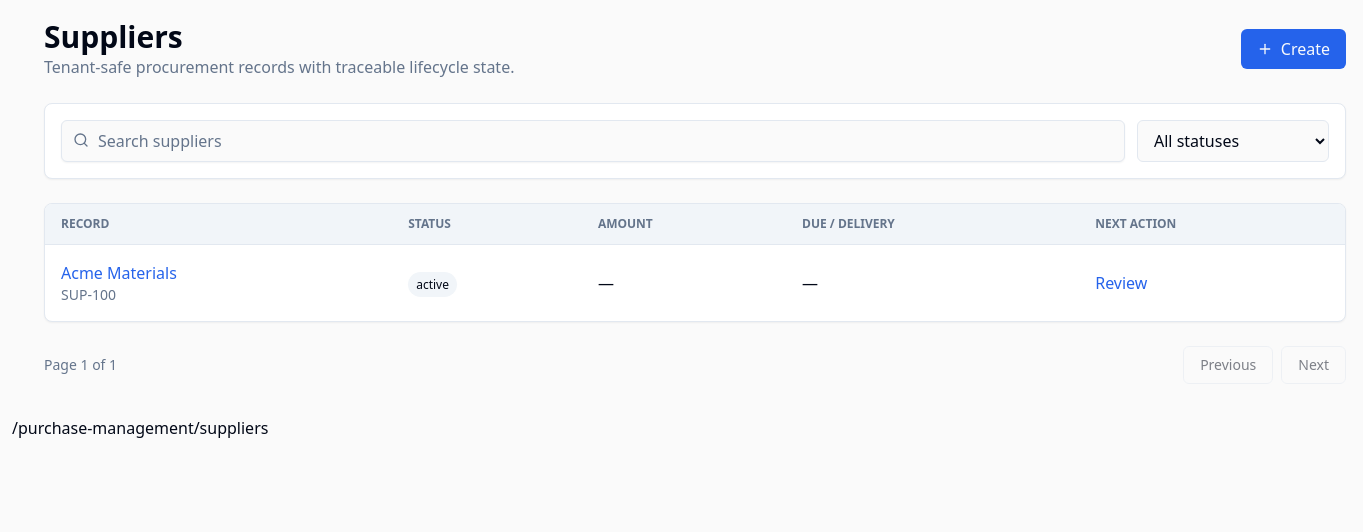
Test: purchase management pages › renders supplier list results, applies filters, resets an empty filtered state, and retries errors
Expected: the heading "Suppliers" is shown, [44, 16, 183, 57]
Type "missing" into the field with placeholder "Search suppliers" at (593, 141), box [61, 120, 1125, 162]
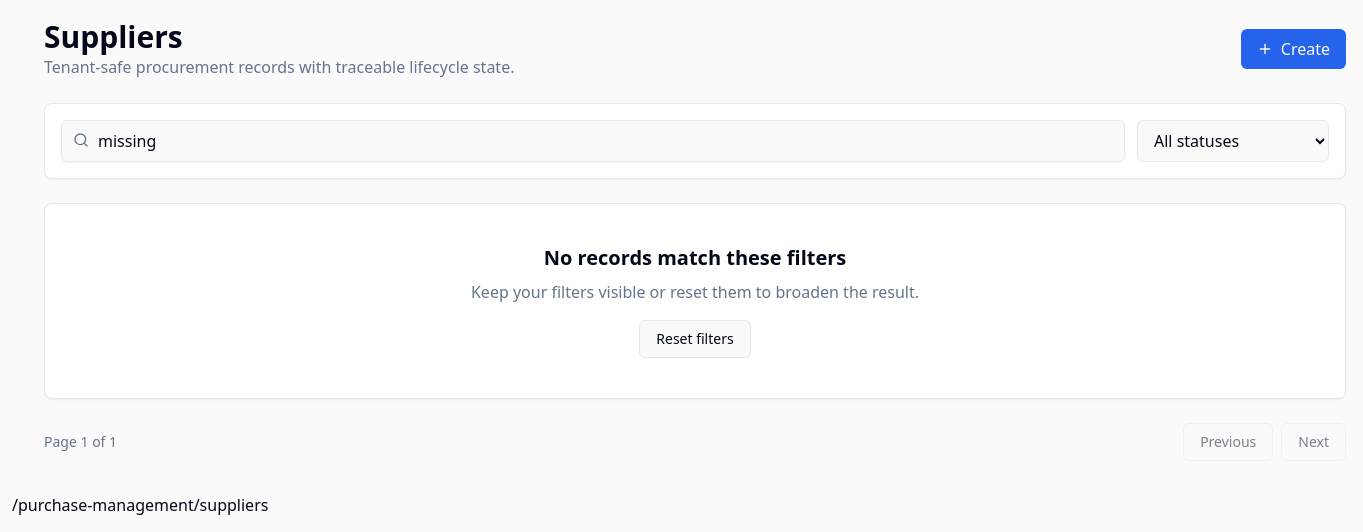
Expected: the heading "No records match these filters" is shown, [544, 244, 846, 271]
Click the button "Reset filters" at (695, 339), box [639, 320, 751, 358]
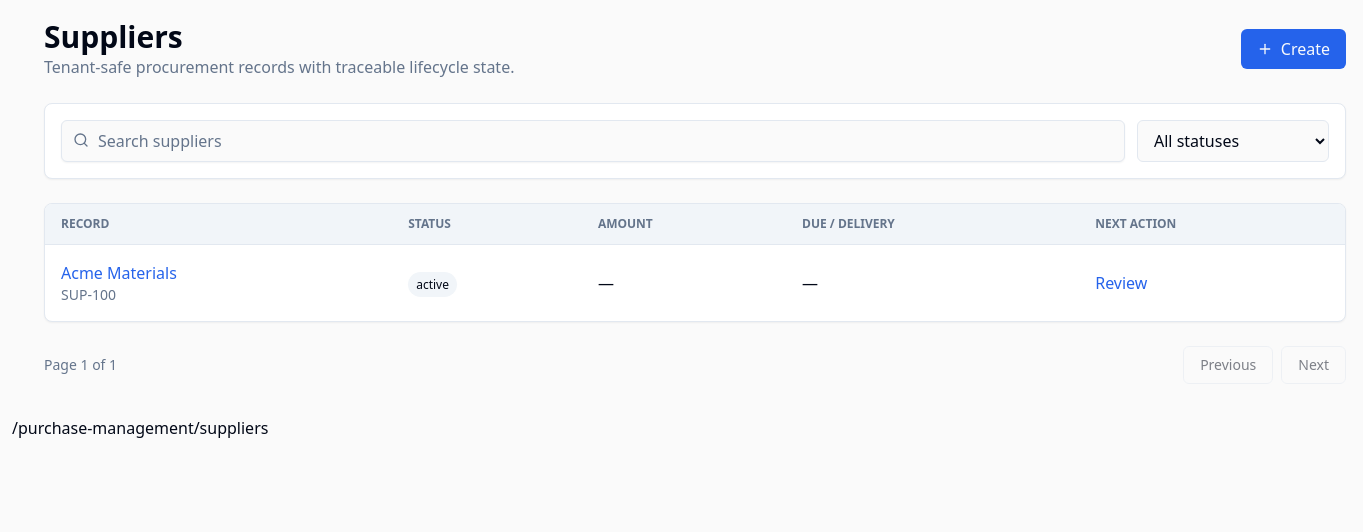
Expected: the number of links "Acme Materials" is 2
Select "archived" in the dropdown named "Status filter" at (1233, 141), box [1137, 120, 1329, 162]
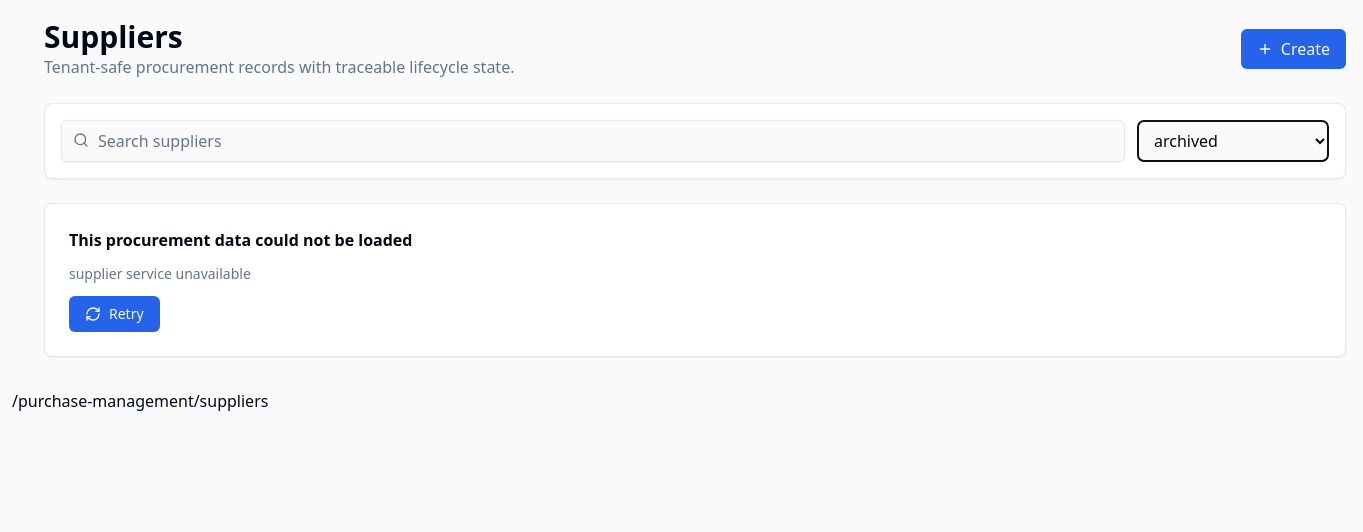
Expected: the message shows "supplier service unavailable", [69, 264, 251, 283]
Click the button "Retry" at (114, 314), box [69, 296, 160, 332]
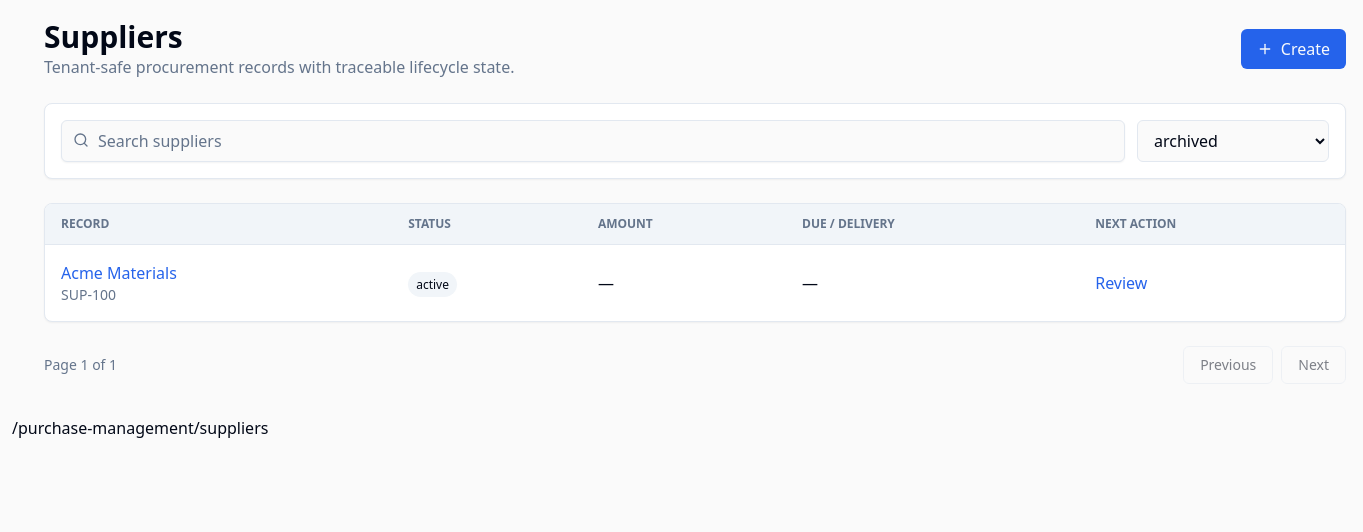
Expected: the number of links "Acme Materials" is 2
